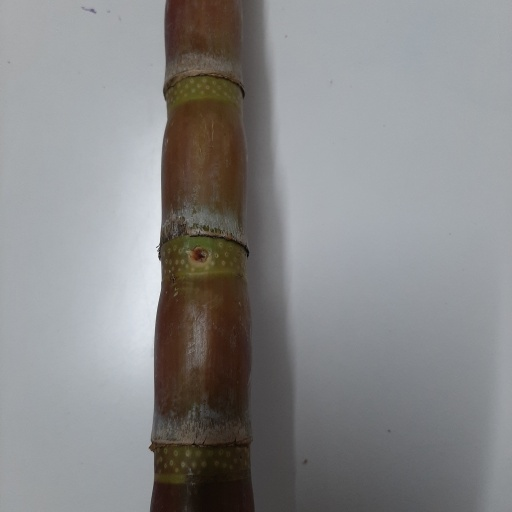Damage_Bud: (187, 243, 212, 267)
